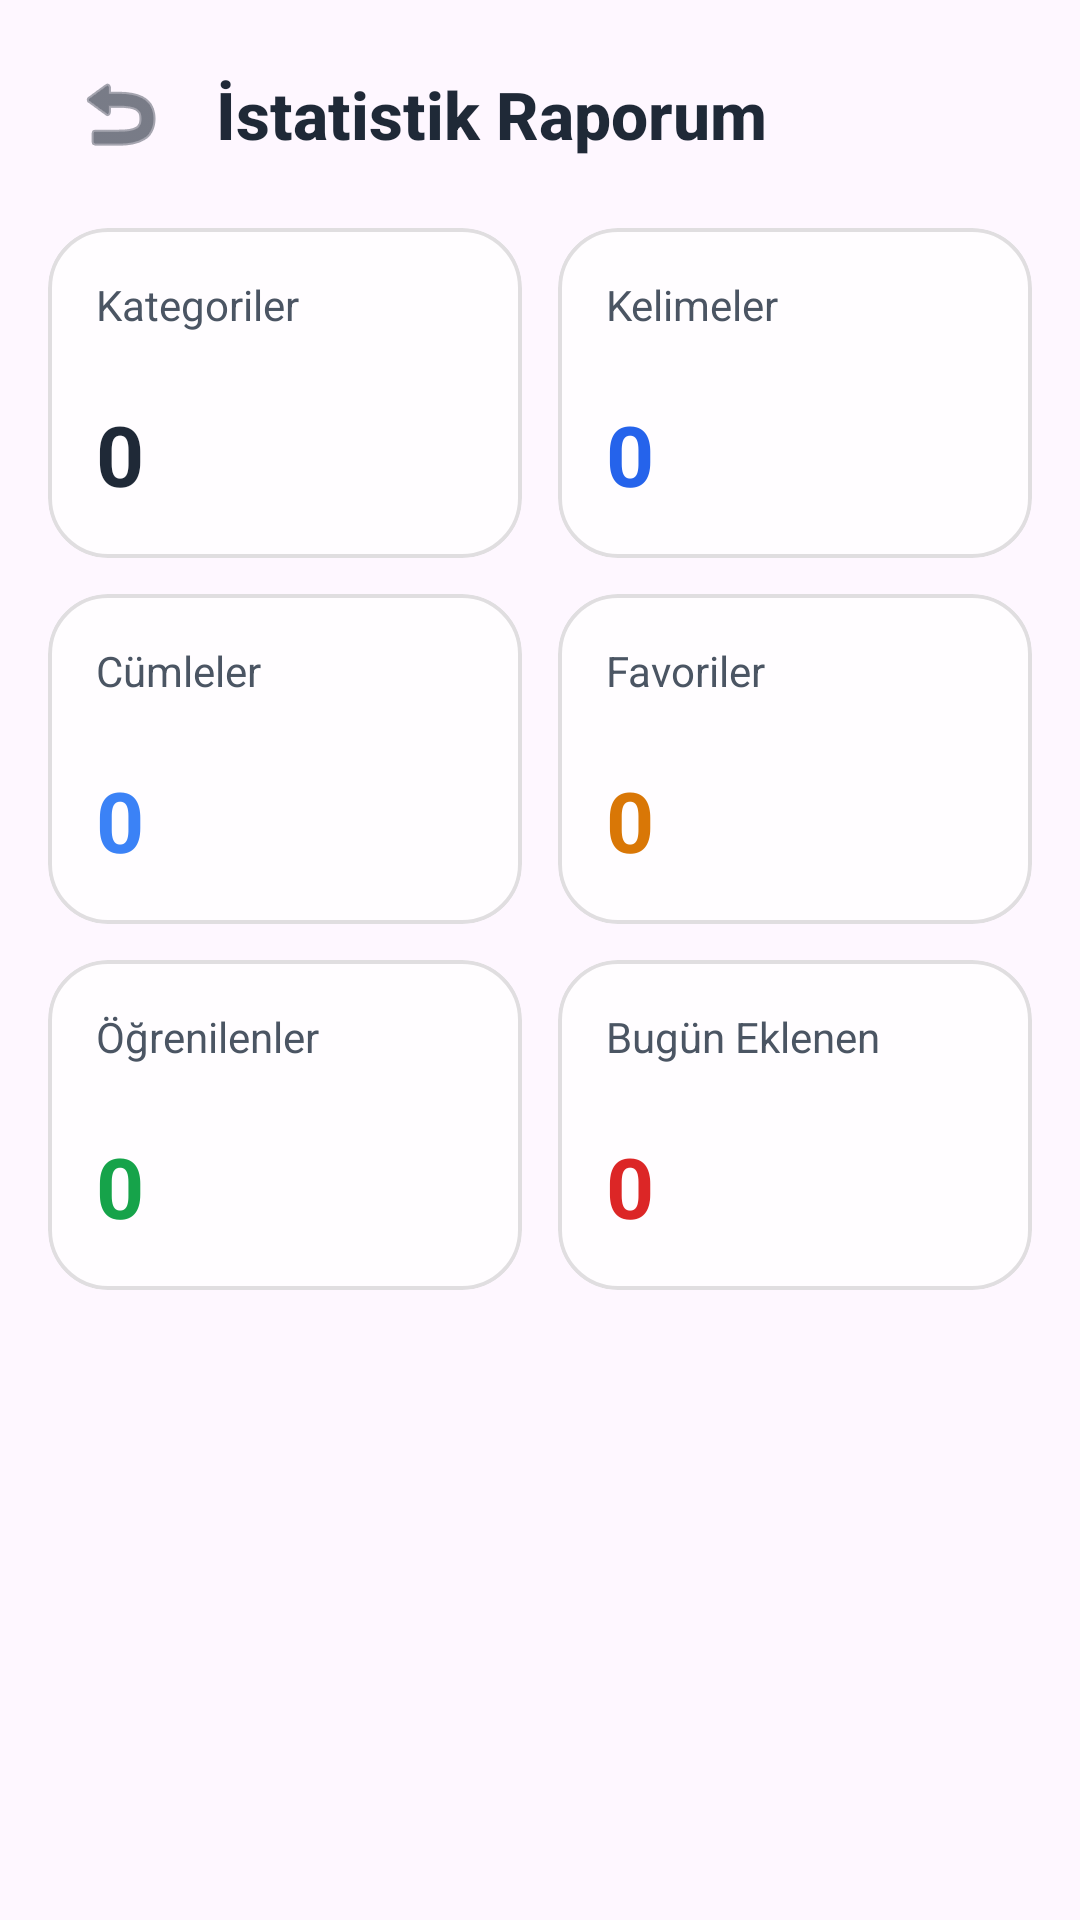

Named icons in this screenshot (1080×1920) and their bounding boxes, (x1, y1, x2, y2):
Geri: (87, 83, 156, 146)
